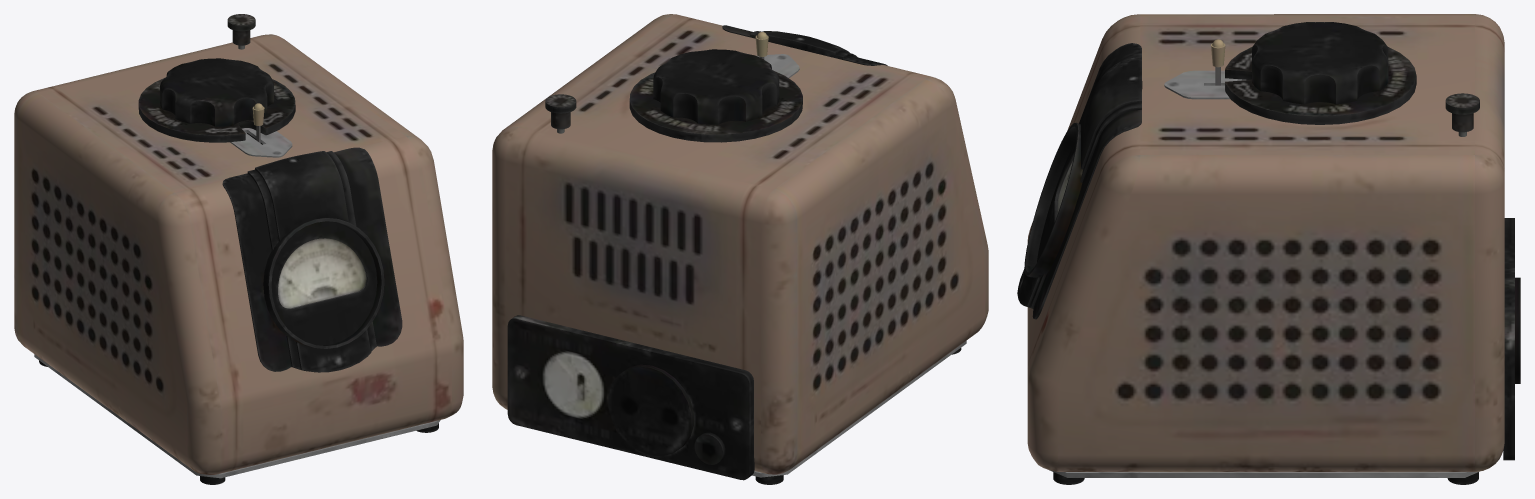
The model's file is voltage-regulator.glb.
The picture shows the model from 3 angles, left to right: view 1: azimuth 30°, elevation 25°; view 2: azimuth 150°, elevation 25°; view 3: azimuth 270°, elevation 25°; orthographic projection. The views are drawn at different scales.
Visible parts, largest first — view 1: base_autotransformer_0; view 2: base_autotransformer_0; view 3: base_autotransformer_0.
Part boxes in pixels (x1,y1,x2,y2): base_autotransformer_0: [14, 14, 463, 484]; base_autotransformer_0: [492, 14, 988, 484]; base_autotransformer_0: [1017, 14, 1520, 484].
Bounding box in the file's own units: 0.1998 × 0.2135 × 0.26.
Materials: 1 (1 with a texture image).
